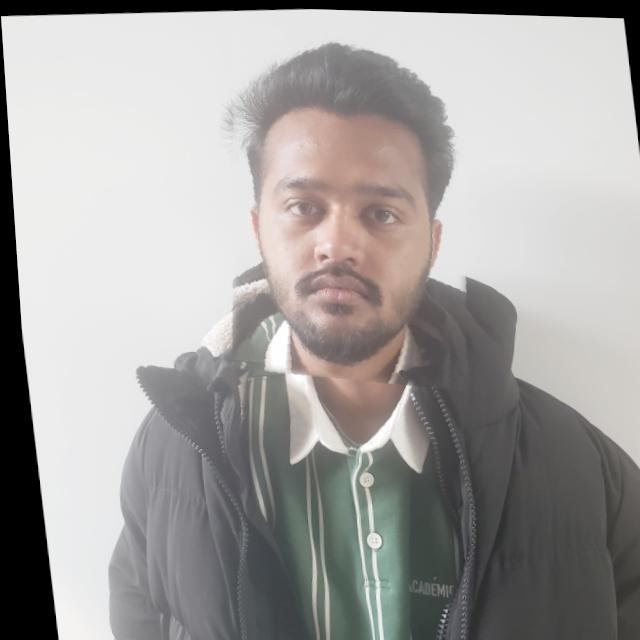sad: (201, 15, 492, 394)
